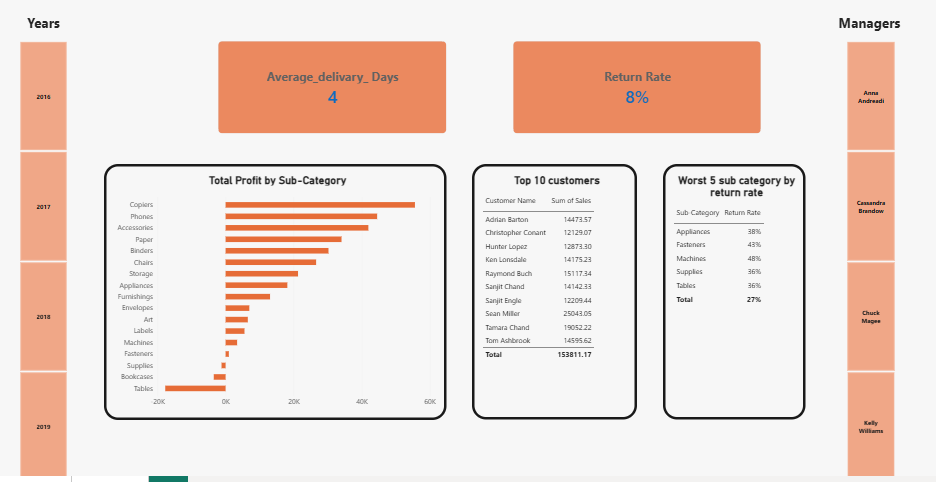

The page's visual inventory and layout, read from the dashboard file:
{"tool":"powerbi","page":{"name":"Page 2","canvas":[1920,1080],"ordinal":1},"visuals":[{"type":"cardVisual","fields":{"Data":["([measures]).Return Rate"]},"box":[1041.1,110.2,496.8,185.8],"z":0},{"type":"cardVisual","fields":{"Data":["([measures]).Average-delivary"]},"box":[451.4,110.2,457.9,185.8],"z":1000},{"type":"slicer","fields":{"Values":["People.Mangers"]},"box":[1689.1,110.2,133.9,881.3],"z":1001},{"type":"slicer","fields":{"Values":["Orders.Years"]},"box":[36.7,110.2,131.8,881.3],"z":1002},{"type":"textbox","box":[21.6,54,162.5,57.5],"z":1003},{"type":"textbox","box":[1594.1,54,322,46],"z":1004},{"type":"clusteredBarChart","fields":{"Category":["Orders.Sub-Category"],"Y":["([measures]).Total Profit"]},"box":[224.6,356.4,684.7,511.9],"z":1005},{"type":"tableEx","title":"Top 10 customers","fields":{"Values":["Orders.Customer Name","Sum(Orders.Sales)"]},"box":[960,355.3,330.1,511.5],"z":1006},{"type":"tableEx","title":"Worst 5 sub category by return rate","fields":{"Values":["Orders.Sub-Category","([measures]).Return Rate"]},"box":[1343,355.3,284.7,511.5],"z":1007}]}

Visuals, with their boxes on the page's 1920x1080 design canvas (x1, y1, x2, y2). These are canvas units, not pixel positions in the 936x482 screenshot, which may show the page scaled, cropped or inside an application window:
cardVisual - ([measures]).Return Rate: [1041,110,1538,296]
cardVisual - ([measures]).Average-delivary: [451,110,909,296]
slicer - People.Mangers: [1689,110,1823,992]
slicer - Orders.Years: [37,110,168,992]
textbox: [22,54,184,112]
textbox: [1594,54,1916,100]
clusteredBarChart - Orders.Sub-Category x ([measures]).Total Profit: [225,356,909,868]
"Top 10 customers" tableEx: [960,355,1290,867]
"Worst 5 sub category by return rate" tableEx: [1343,355,1628,867]
